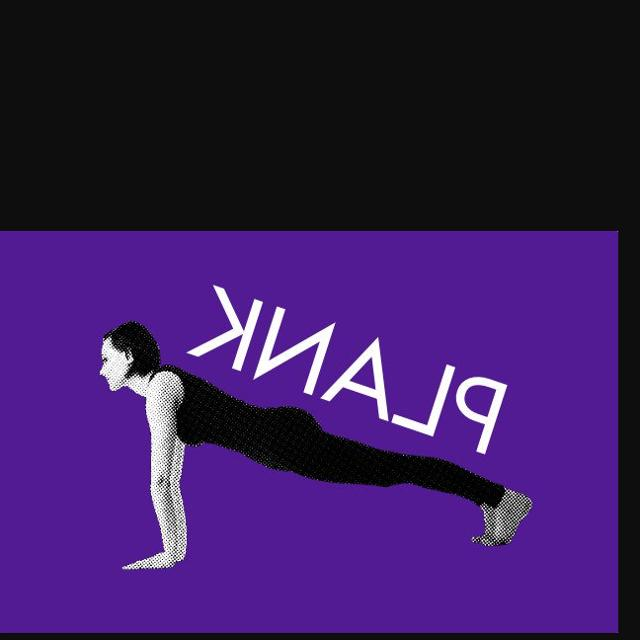Plank_Pose: (91, 314, 551, 576)
